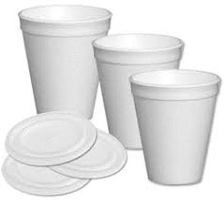paper_cup: (87, 27, 189, 154), (13, 0, 115, 126), (124, 65, 224, 189)
